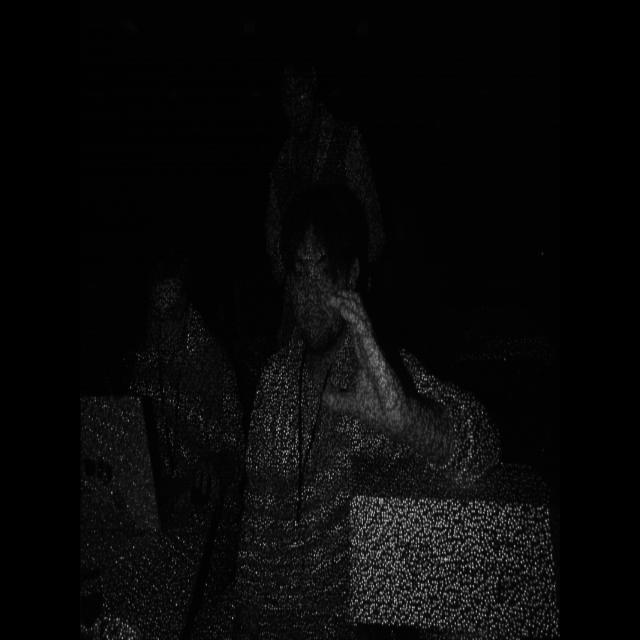C: (292, 270, 438, 472)
